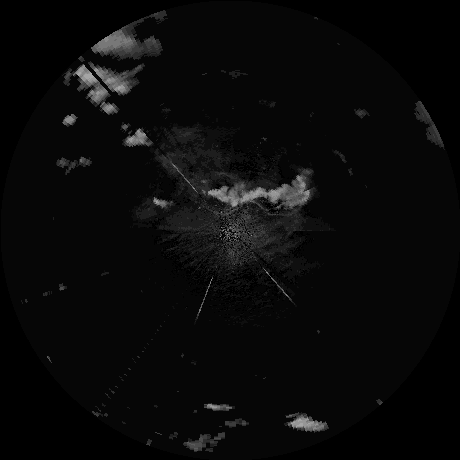frontgust: (247, 199, 308, 218), (201, 201, 244, 215)
